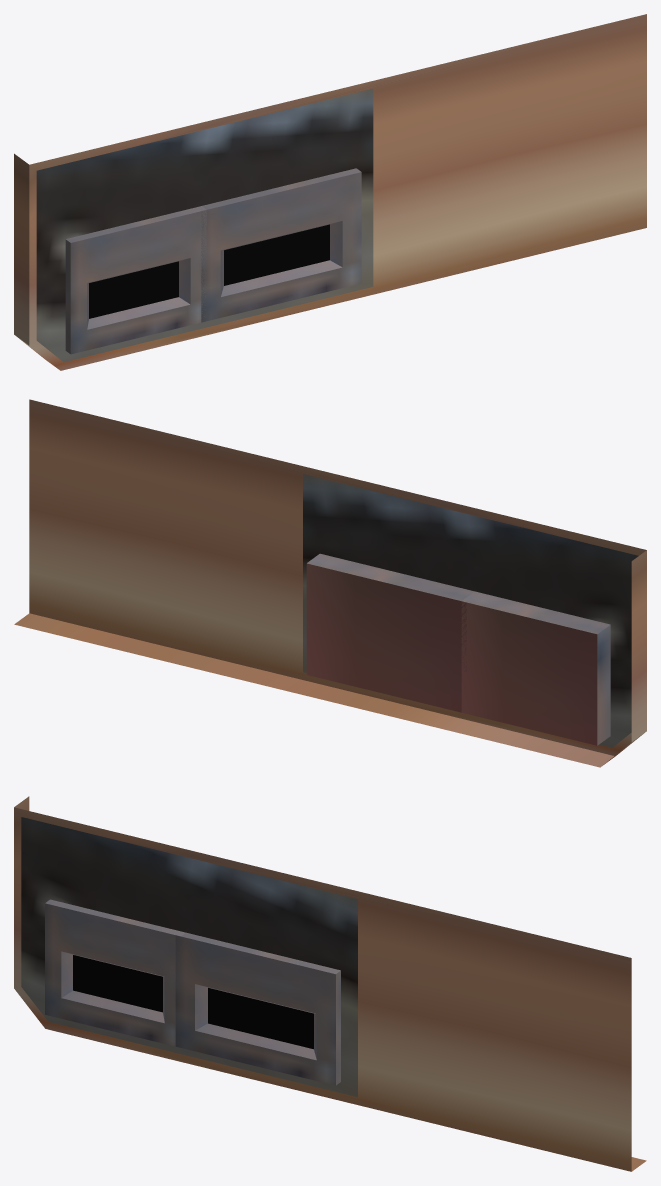
Rendered from Score&TimePanel.fbx.
The picture shows the model from 3 angles, top to bottom: view 1: azimuth 30°, elevation 25°; view 2: azimuth 150°, elevation 25°; view 3: azimuth 330°, elevation 25°; orthographic projection.
Parts seen in each view (by area): view 1: Cube.003; view 2: Cube.003; view 3: Cube.003.
Boxes of the visible parts, x1,y1,x2,y2 form: Cube.003: [14, 14, 646, 370]; Cube.003: [14, 399, 646, 767]; Cube.003: [14, 796, 646, 1171].
Bounding box in the file's own units: 132 × 43.59 × 7.61.
